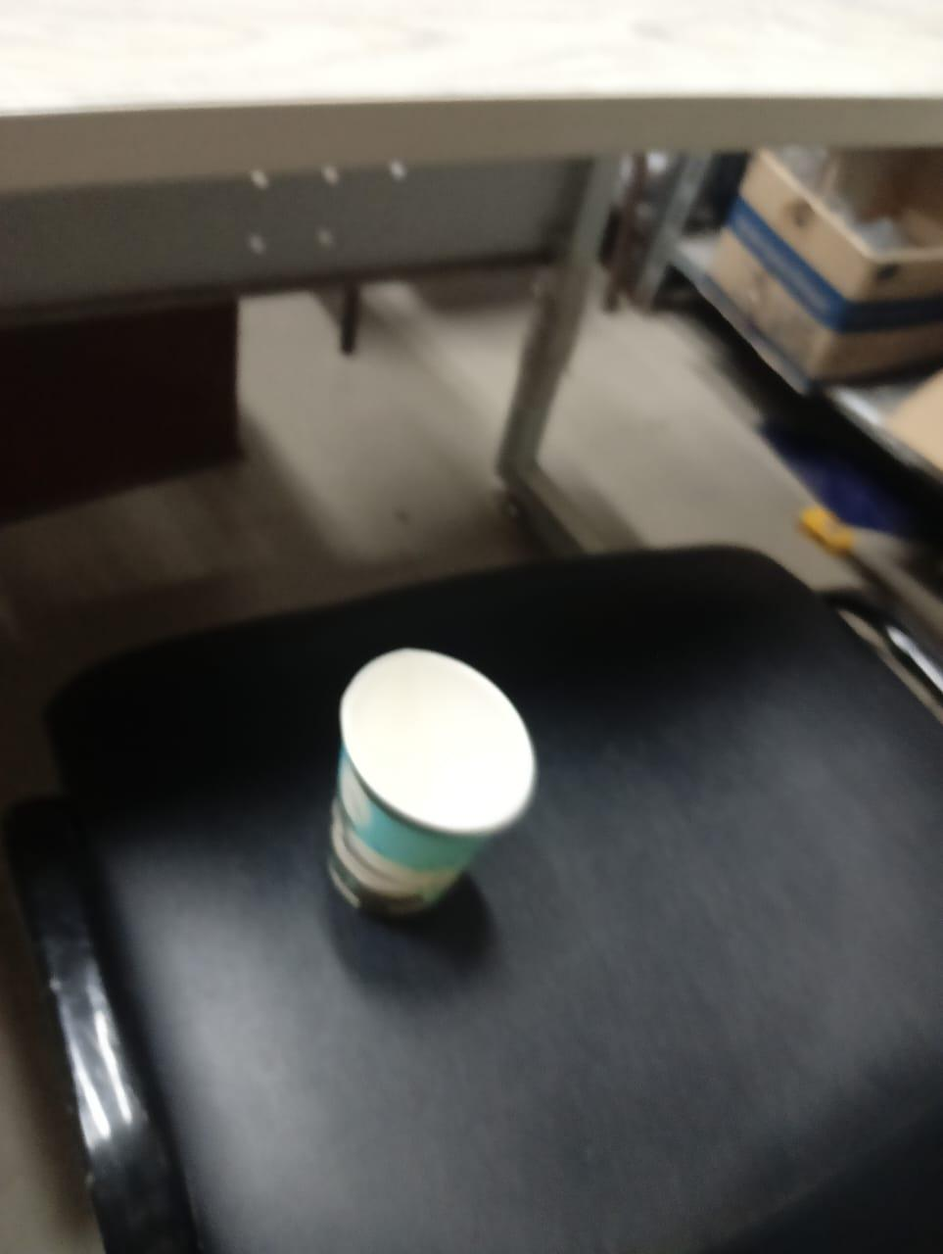cup: (331, 649, 535, 914), (348, 657, 519, 822)
